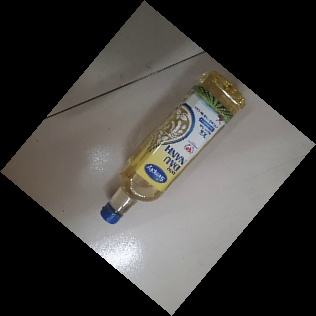Simply: (100, 67, 247, 225)
